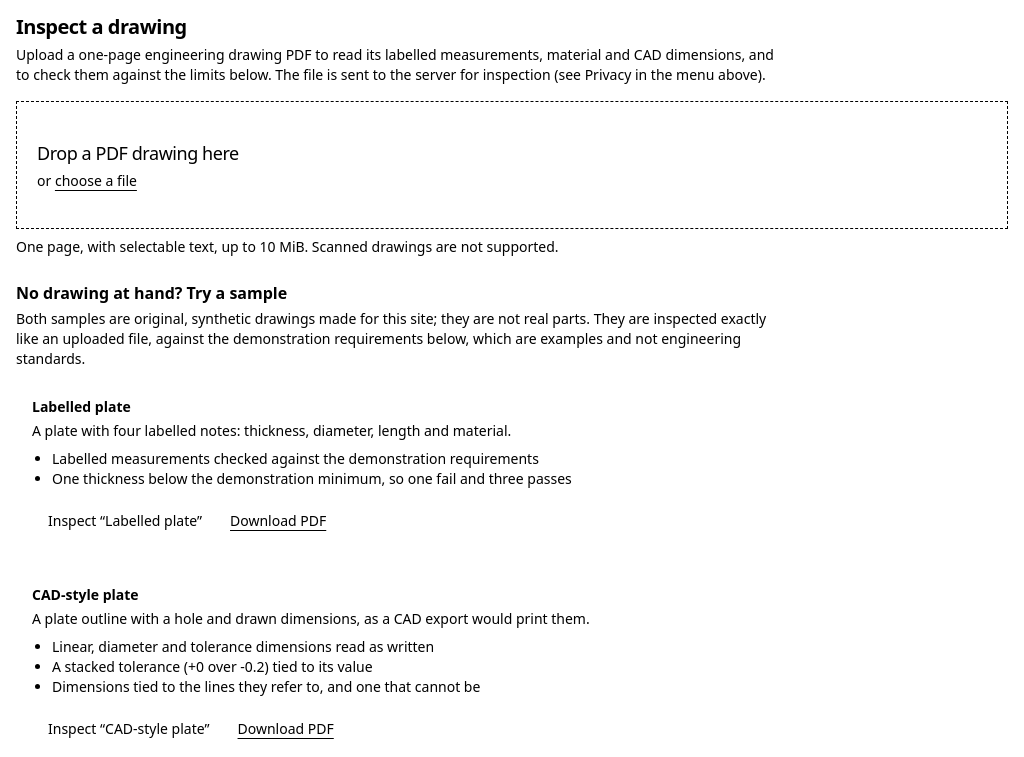
Test: sample drawings › does not bypass validation: a sample that is not a PDF is refused like any file
Click the button "Inspect “Labelled plate”": (125, 521) [32, 501, 218, 541]
(page scrolled)
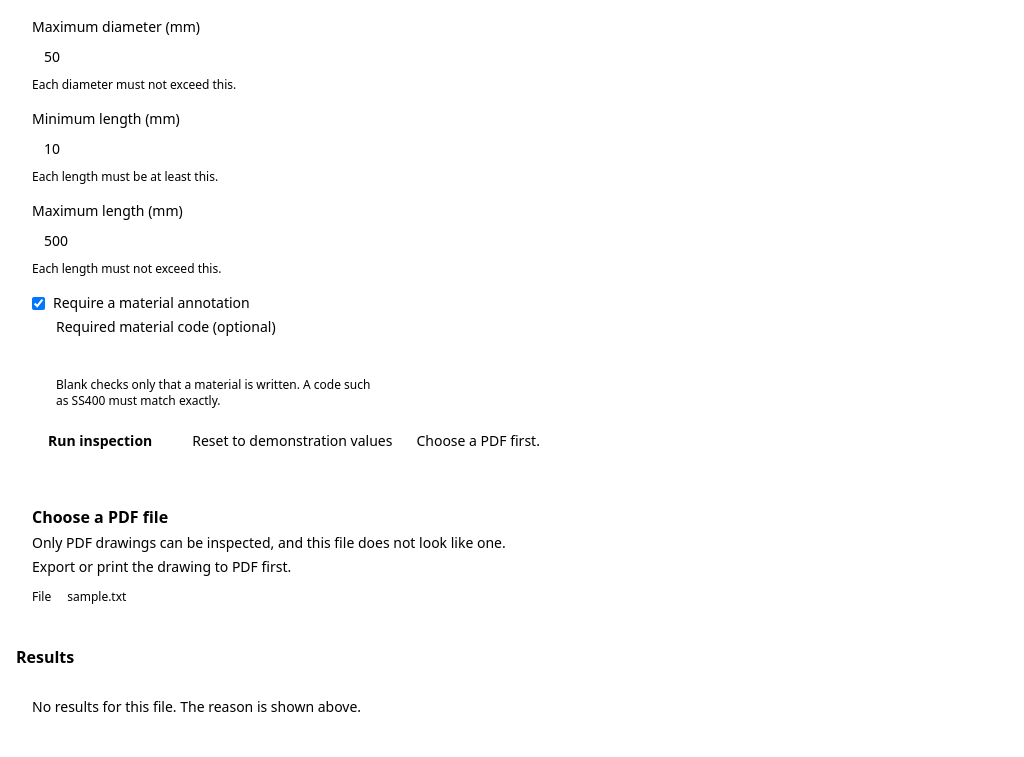
Check: the message shows "PDF", box [32, 506, 168, 528]
